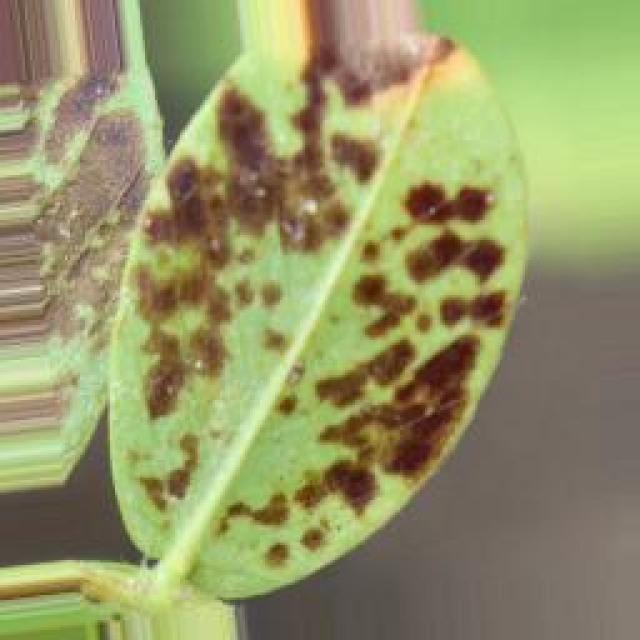Whitefly: (107, 8, 595, 558)
